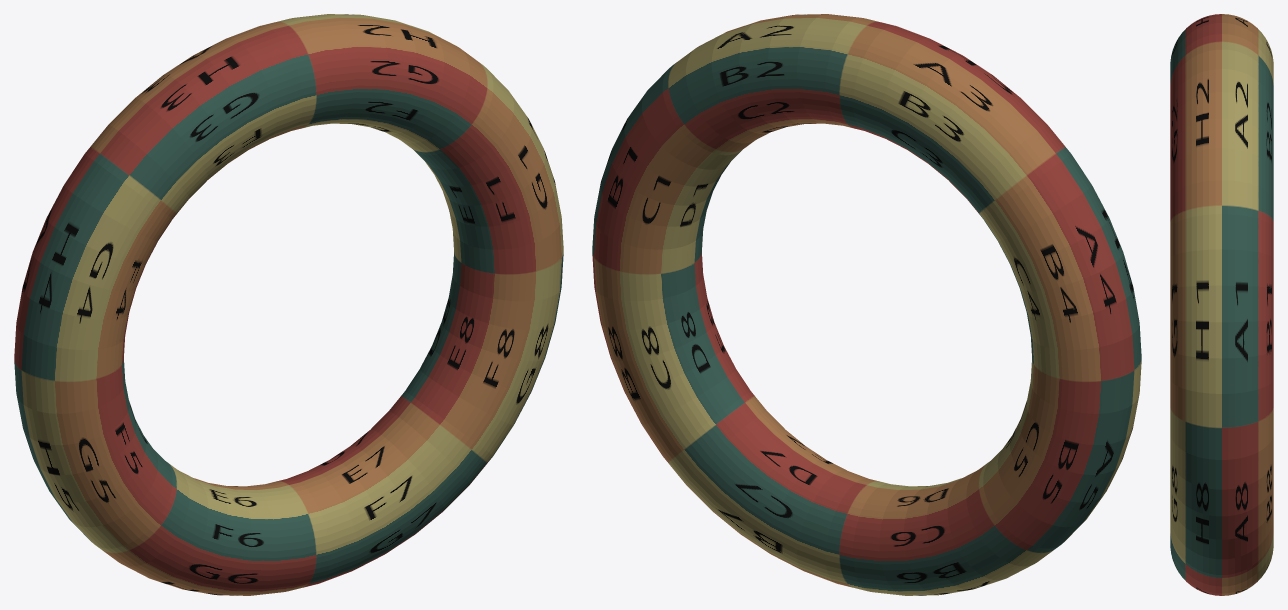
Rendered from texture_torus_R10_r6.glb.
3 renders of one model, left to right at view 1: azimuth 30°, elevation 25°; view 2: azimuth 150°, elevation 25°; view 3: azimuth 270°, elevation 25°, orthographic. The views are drawn at different scales.
Parts seen in each view (by area): view 1: world; view 2: world; view 3: world.
Boxes of the visible parts, bbox=[...] form: world: bbox=[14, 14, 563, 595]; world: bbox=[592, 14, 1141, 595]; world: bbox=[1170, 14, 1273, 595].
Bounding box in the file's own units: 20.27 × 20.23 × 3.59.
1 material, 1 textured.
